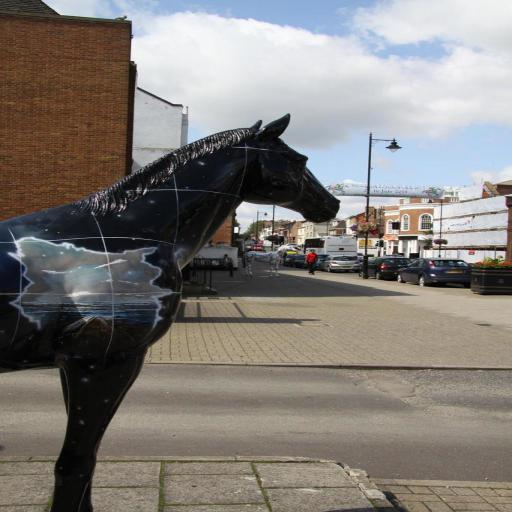horse: (0, 110, 344, 512)
